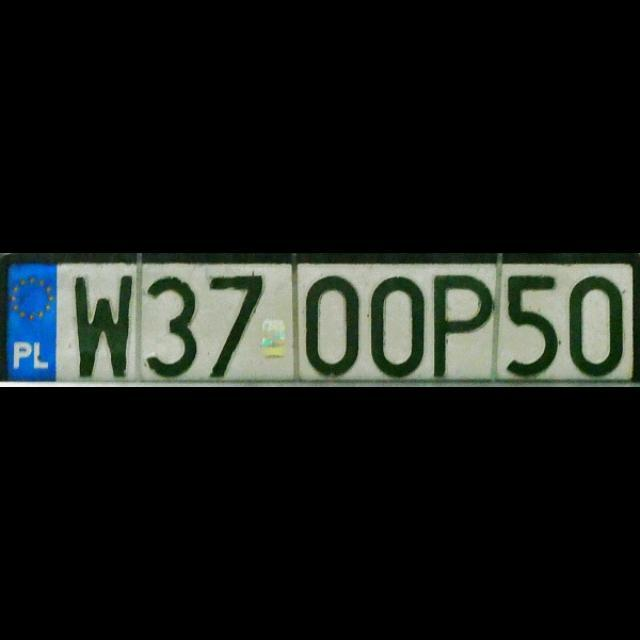license-plates: (0, 256, 640, 385)
